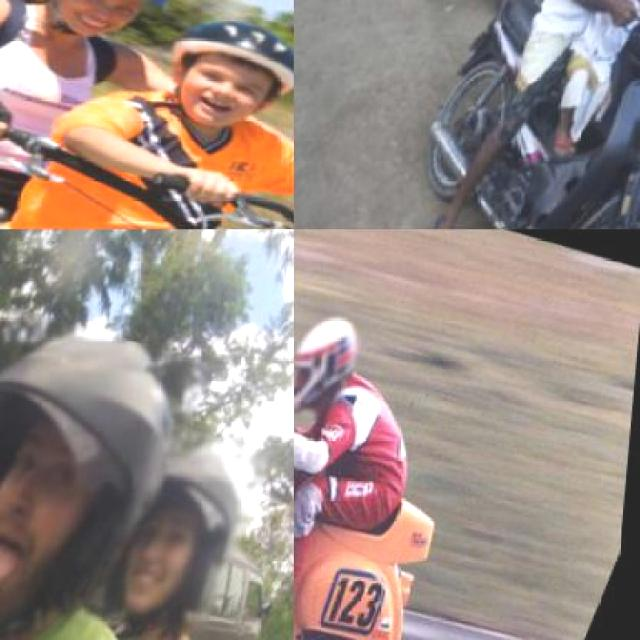With Helmet: (0, 302, 225, 638), (88, 420, 286, 638), (158, 0, 292, 125), (294, 298, 381, 434), (40, 0, 186, 28)
